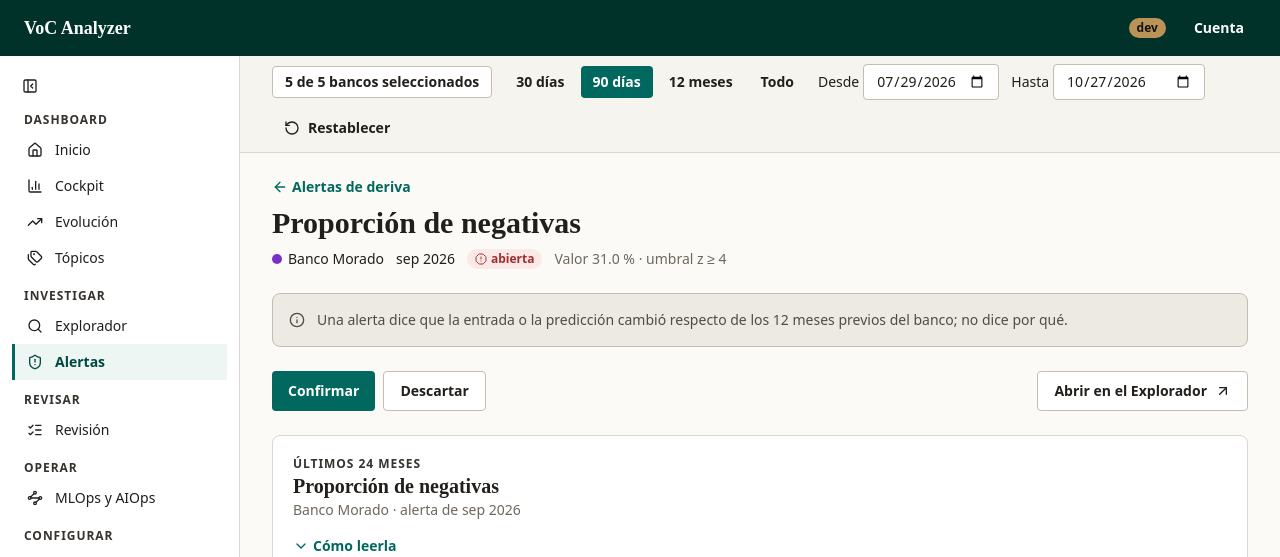
Scenario: detalle de una alerta › un 409 avisa que la alerta cambió
Click the button "Descartar": (435, 391) [383,371,486,411]
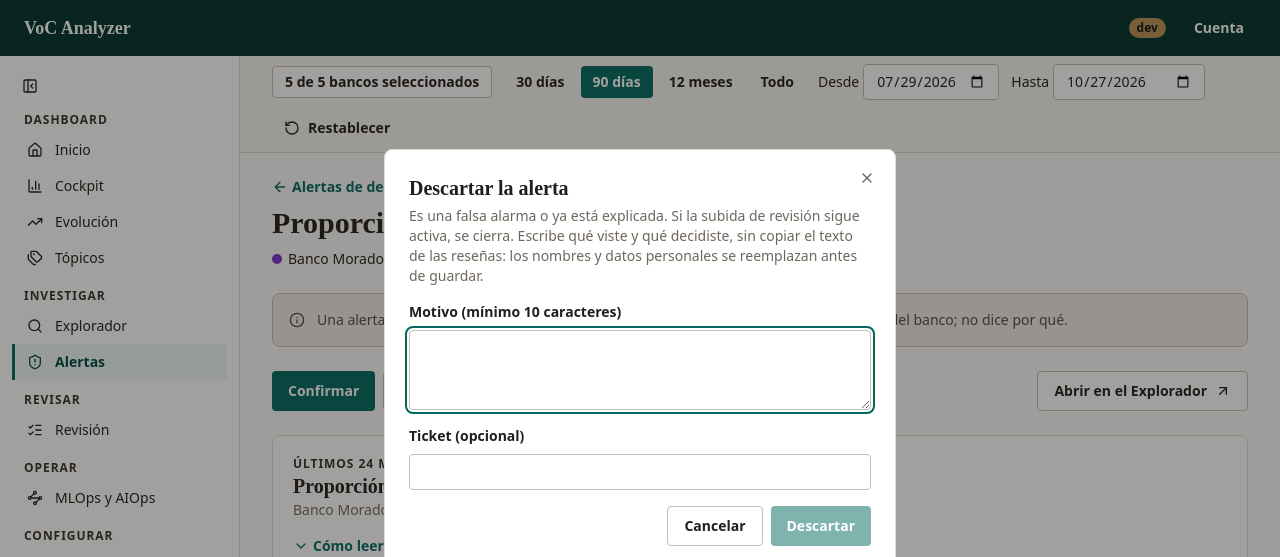
In the text box labelled "Motivo (mínimo 10 caracteres)": (640, 370) [409,330,871,410], type "Revisado con el equipo, la deriva es real."
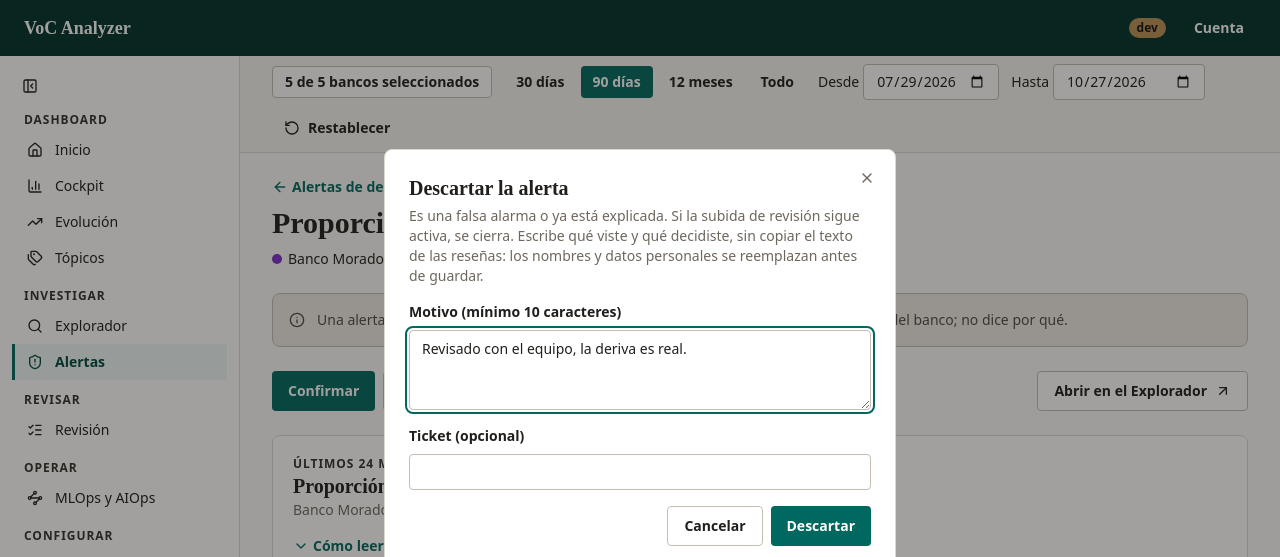
Click the button "Descartar": (821, 526) [770,506,871,546]
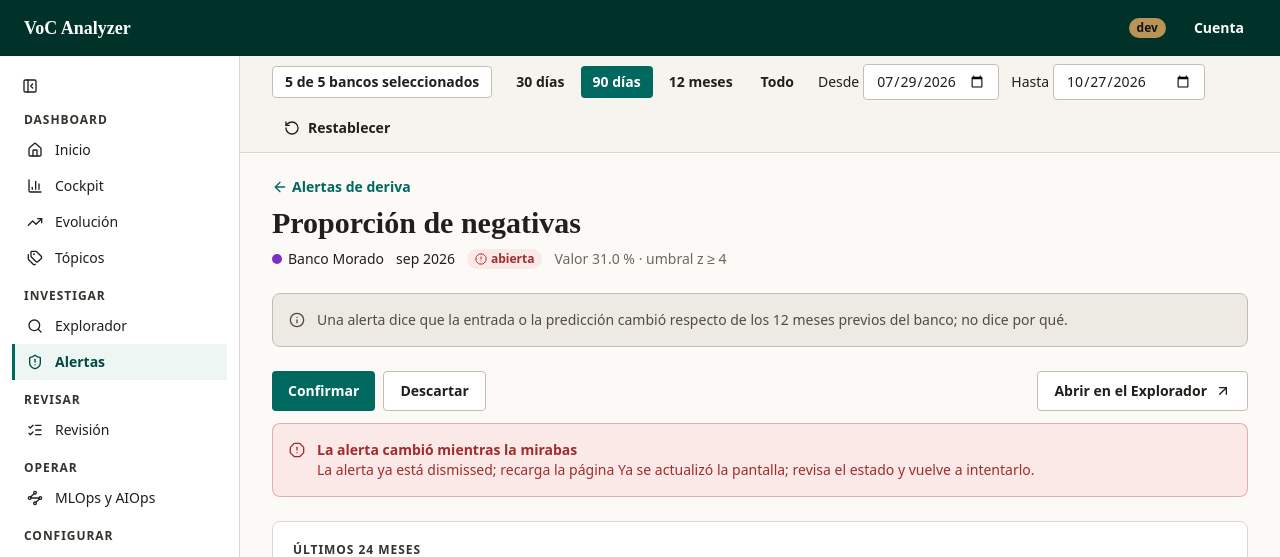
Expected: the message shows "La alerta cambió mientras la mirabas", [317,440,577,459]
Expected: the message shows "ya está dismissed", [317,460,614,479]
